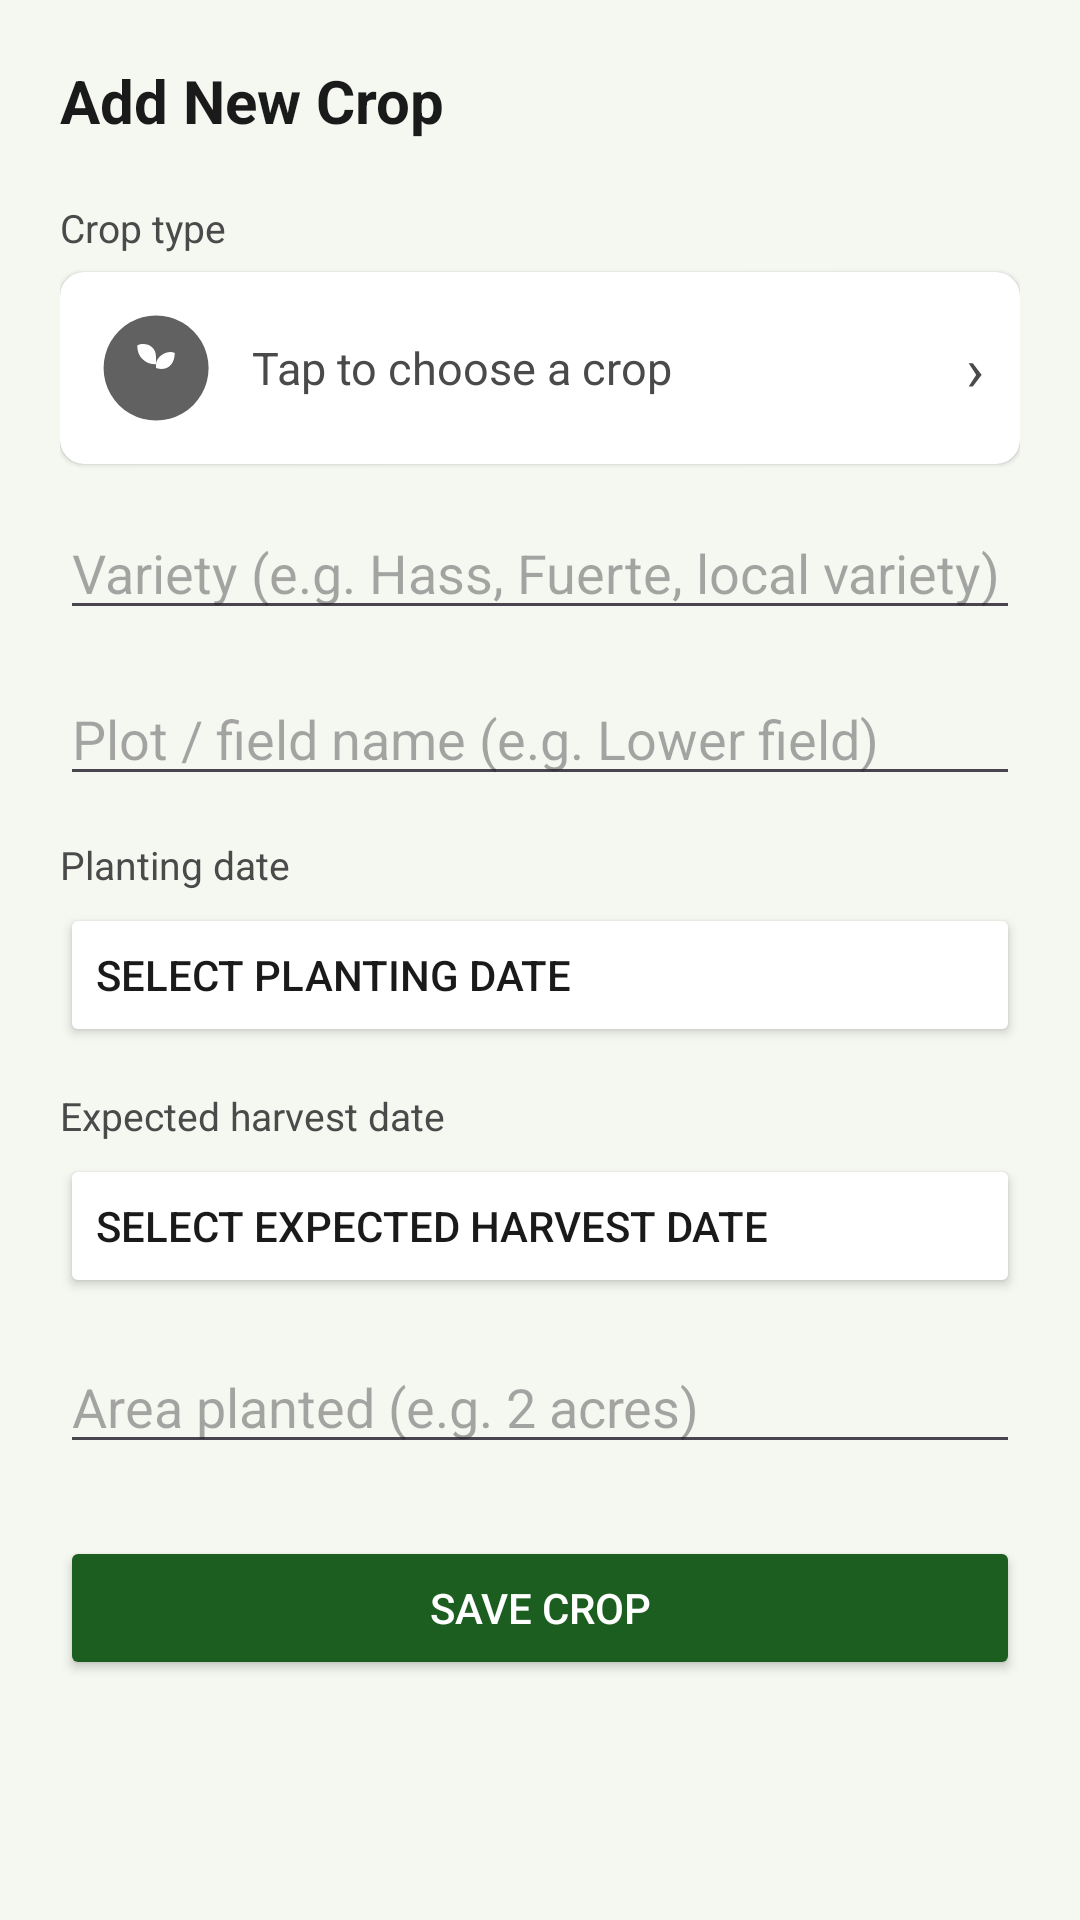

Screen size 1080w x 1920h. Icon name, then its center in pixels as point (x, y):
Selected crop image: point (156, 368)
